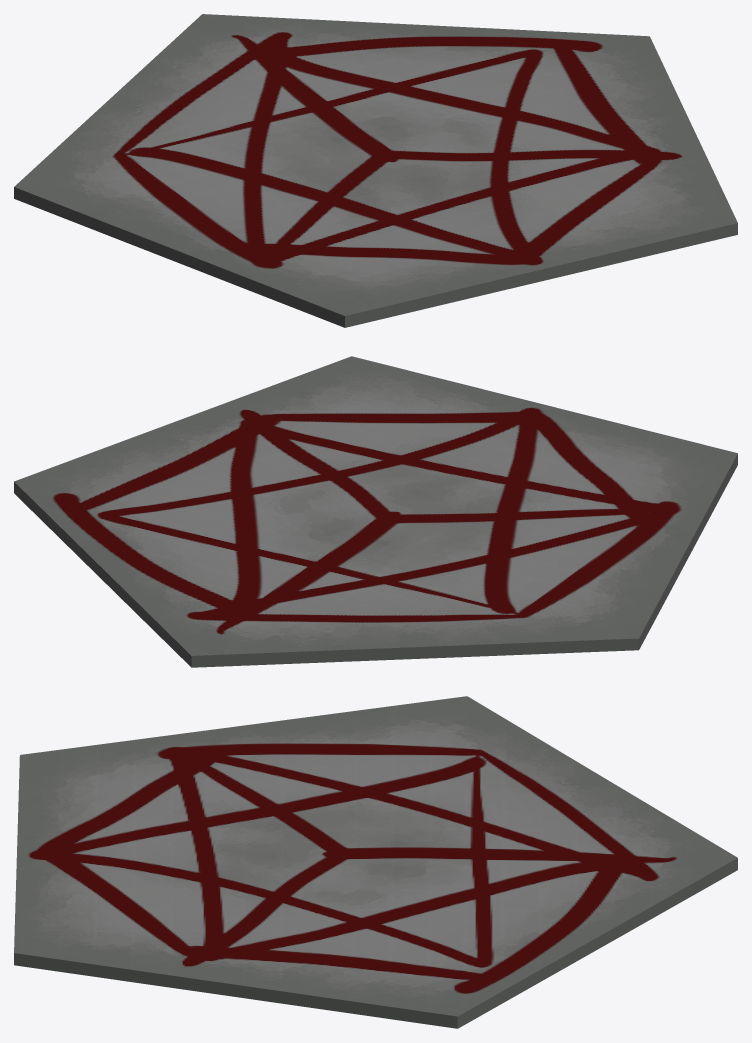
Rendered from SM_basePlatform.fbx.
3 views of the same model, one above another, from view 1: azimuth 30°, elevation 25°; view 2: azimuth 150°, elevation 25°; view 3: azimuth 270°, elevation 25° (orthographic). The views are drawn at different scales.
Parts seen in each view (by area): view 1: SM_basePlatform; view 2: SM_basePlatform; view 3: SM_basePlatform.
Part boxes in pixels (<box>): SM_basePlatform: <box>14,14,737,327</box>; SM_basePlatform: <box>14,356,737,667</box>; SM_basePlatform: <box>14,696,737,1028</box>.
Bounding box in the file's own units: 11.56 × 0.2069 × 11.04.
1 material, 1 textured.
